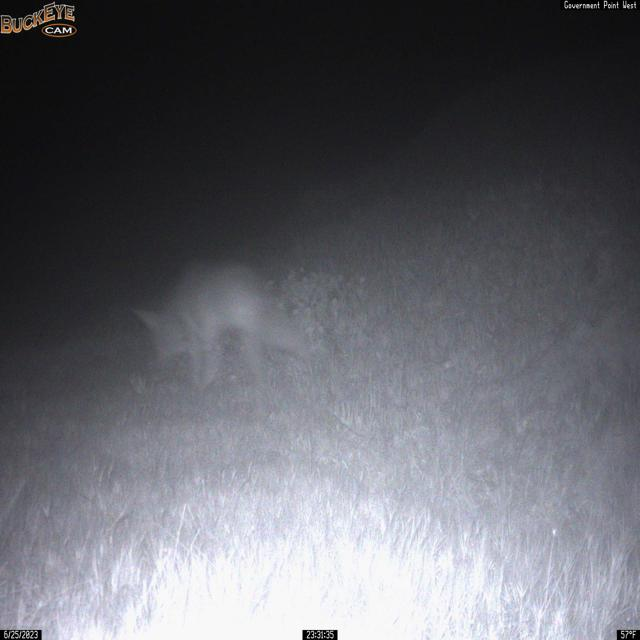coyote: (130, 260, 313, 400)
